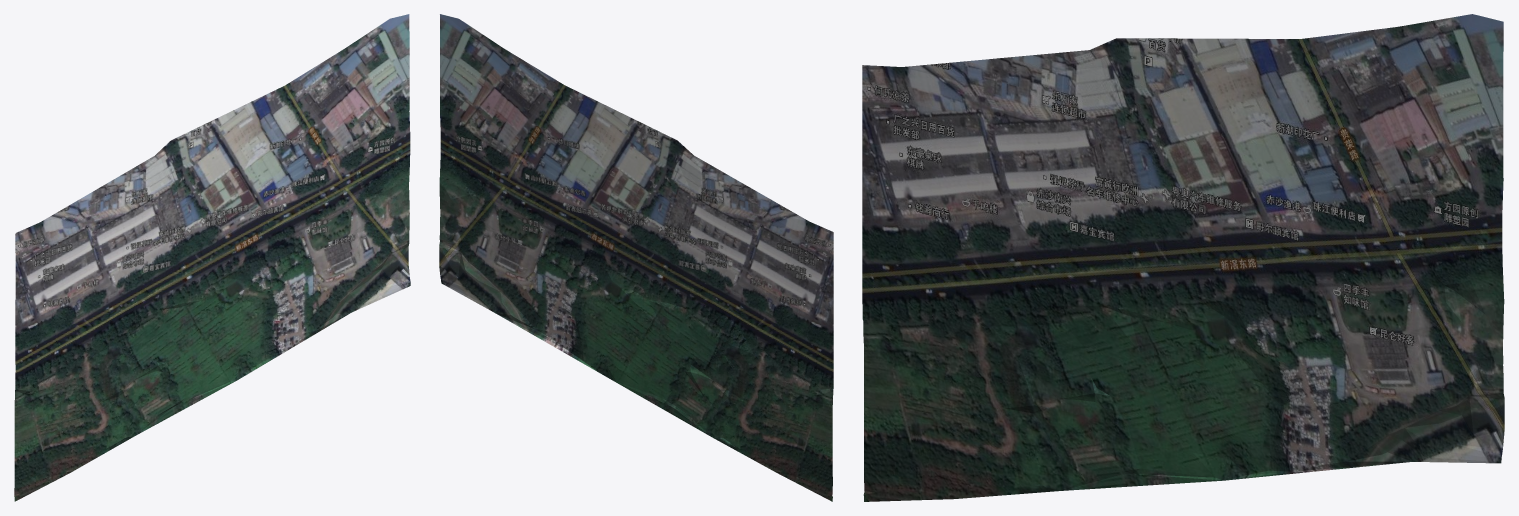
3 views of the same model, side by side, from view 1: azimuth 30°, elevation 25°; view 2: azimuth 150°, elevation 25°; view 3: azimuth 330°, elevation 25° (orthographic). The views are drawn at different scales.
Visible parts, largest first — view 1: 0_2_1_2_3_2; view 2: 0_2_1_2_3_2; view 3: 0_2_1_2_3_2.
Boxes of the visible parts, x1,y1,x2,y2 form: 0_2_1_2_3_2: (14,14,410,501); 0_2_1_2_3_2: (439,14,833,501); 0_2_1_2_3_2: (862,14,1504,501).
Size of the model in its own units: 486 by 462 by 5.8.
1 material, 1 textured.
